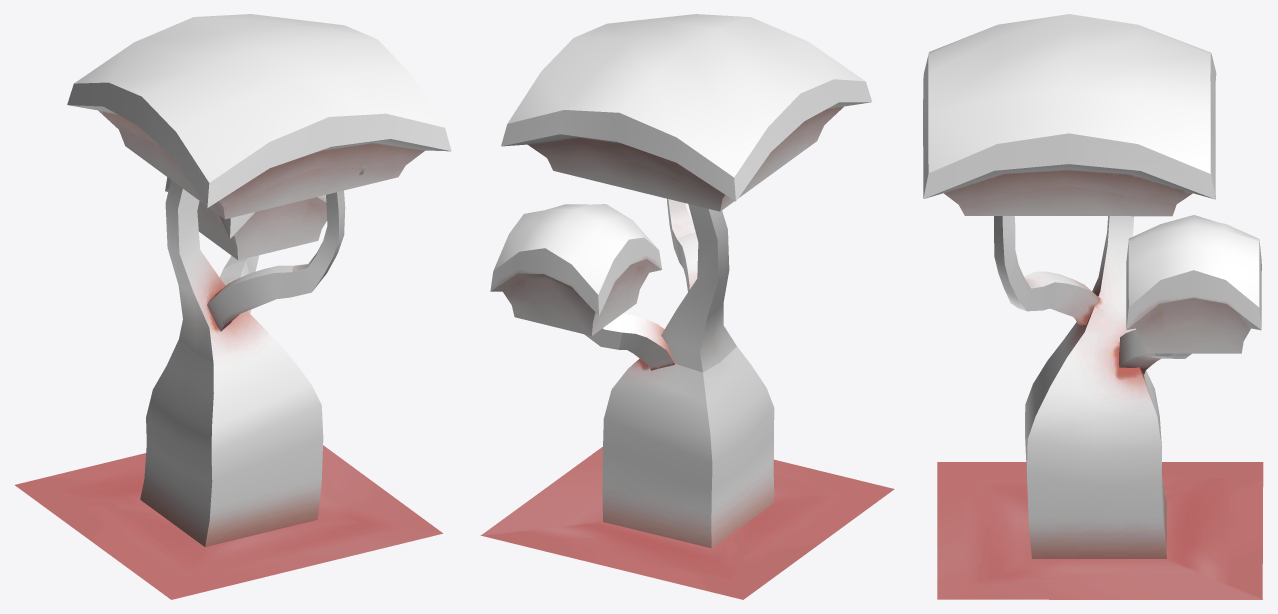
The model's file is treesml (3) #27719.fbx.
The picture shows the model from 3 angles, left to right: view 1: azimuth 30°, elevation 25°; view 2: azimuth 150°, elevation 25°; view 3: azimuth 270°, elevation 25°; orthographic projection. The views are drawn at different scales.
Visible parts, largest first — view 1: tree_sml_top, tree_sml_bot, tree_sml_shadow; view 2: tree_sml_top, tree_sml_bot, tree_sml_shadow; view 3: tree_sml_top, tree_sml_bot, tree_sml_shadow.
Boxes of the visible parts, box(x1,y1,x2,y2) form: tree_sml_top: box(67, 14, 451, 260); tree_sml_bot: box(140, 165, 365, 547); tree_sml_shadow: box(15, 445, 442, 599); tree_sml_top: box(490, 14, 872, 335); tree_sml_bot: box(584, 198, 774, 548); tree_sml_shadow: box(480, 447, 894, 599); tree_sml_top: box(923, 14, 1261, 353); tree_sml_bot: box(994, 216, 1191, 558); tree_sml_shadow: box(937, 462, 1263, 599).
Bounding box in the file's own units: 2.87 × 4.72 × 2.98.
Materials: 3 (3 with a texture image).
